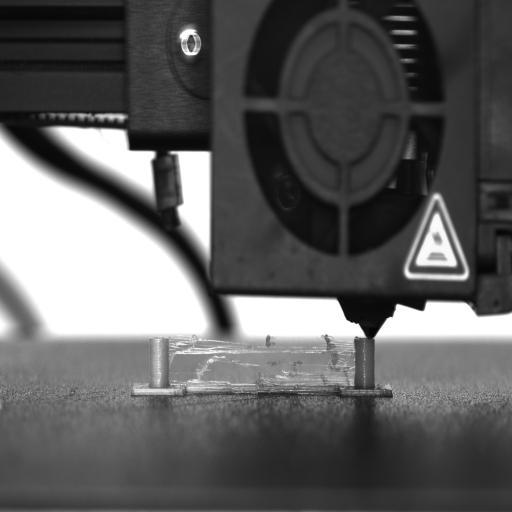spaghetti_and_stringing: (166, 332, 357, 389)
